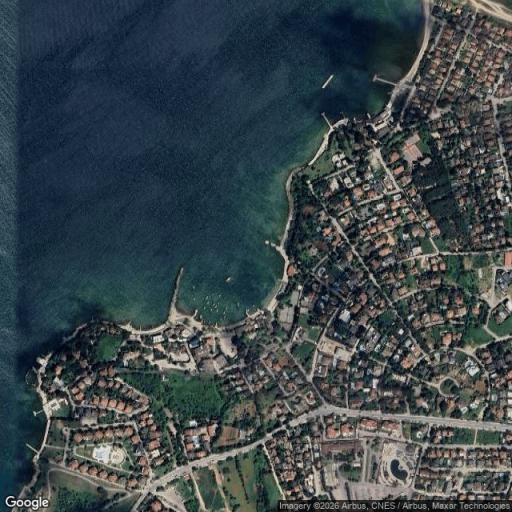ship: (322, 75, 333, 88), (192, 308, 198, 315), (226, 276, 231, 282), (204, 304, 208, 310), (200, 314, 204, 318), (237, 301, 239, 307), (218, 294, 221, 298), (192, 286, 196, 289), (206, 295, 208, 301), (206, 301, 210, 304), (211, 308, 214, 312), (215, 301, 219, 304), (222, 311, 226, 314), (225, 306, 228, 310), (214, 303, 216, 308), (193, 298, 196, 301), (216, 309, 218, 312), (214, 306, 218, 307)
